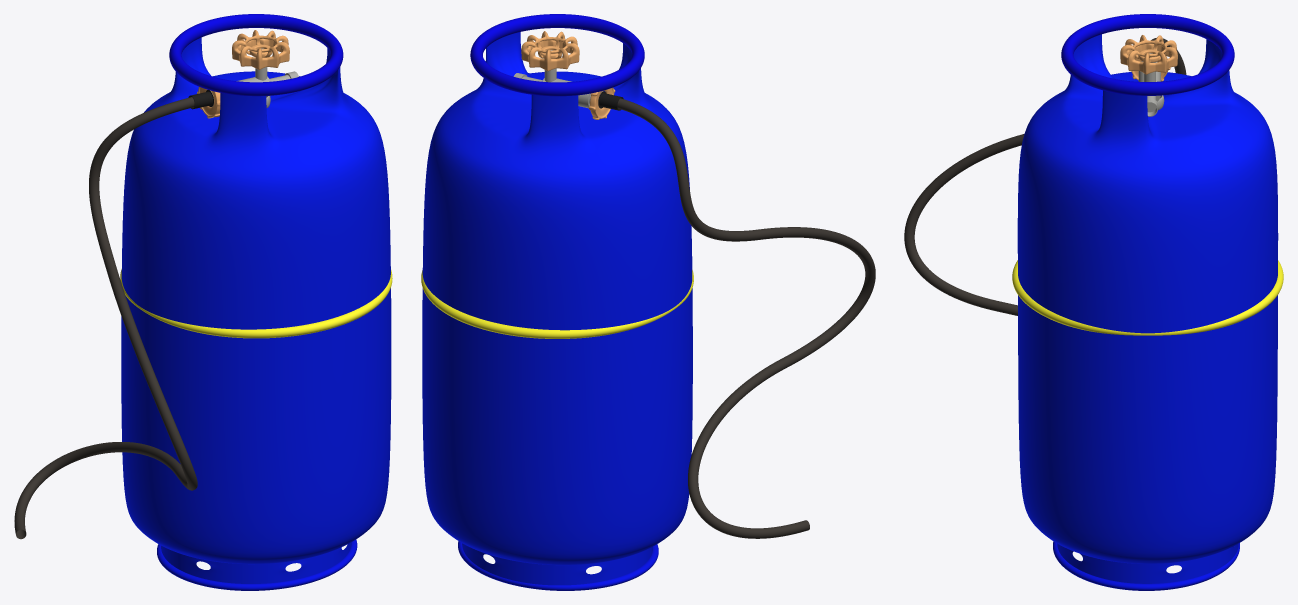
File: LPG_Assembly.fbx
3 views of the same model, side by side, from view 1: azimuth 30°, elevation 25°; view 2: azimuth 150°, elevation 25°; view 3: azimuth 270°, elevation 25° (orthographic).
Visible parts, largest first — view 1: LPG TANK, Hose, Regulator_Valve, Regulator_Body; view 2: LPG TANK, Hose, Regulator_Valve, Regulator_Body; view 3: LPG TANK, Hose, Regulator_Valve.
Boxes of the visible parts, x1,y1,x2,y2 form: LPG TANK: [120, 14, 392, 590]; Hose: [14, 97, 197, 539]; Regulator_Valve: [232, 30, 289, 69]; Regulator_Body: [188, 71, 298, 109]; LPG TANK: [421, 14, 693, 590]; Hose: [617, 98, 875, 538]; Regulator_Valve: [521, 31, 579, 71]; Regulator_Body: [513, 73, 623, 110]; LPG TANK: [1012, 14, 1283, 590]; Hose: [904, 38, 1186, 315]; Regulator_Valve: [1120, 35, 1177, 74].
Bounding box in the file's own units: 2.8 × 3.74 × 2.53.
